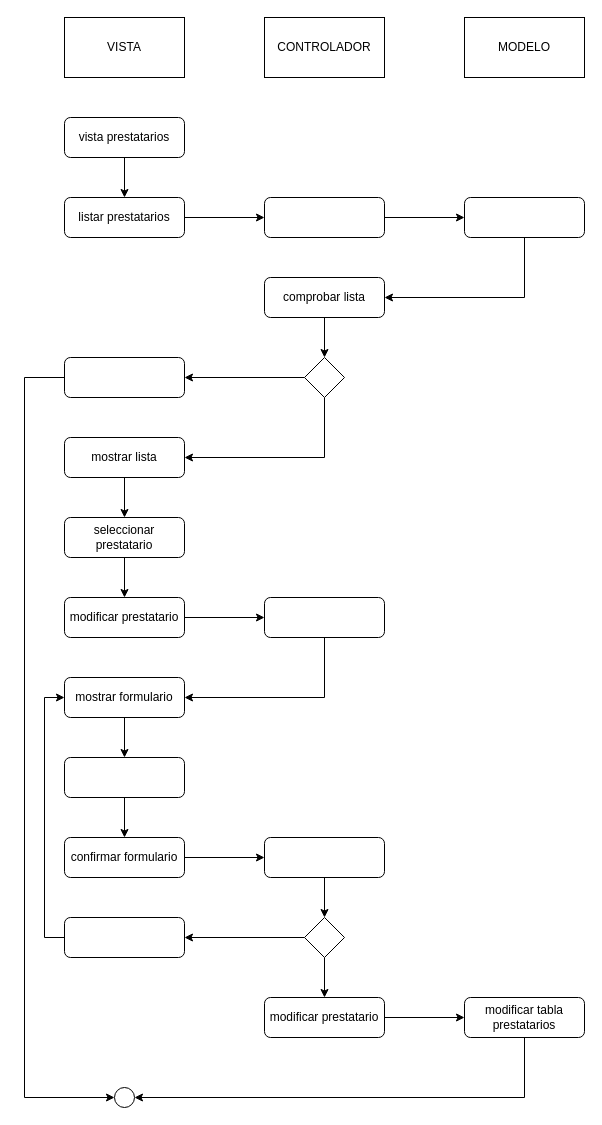
Image size: 602x1125. Some labels were removed from this diagram. Here are the shapes that lost their labels. From the top down, the box of each, then its label:
(264, 196, 384, 238): recuperar lista prestatarios
(464, 196, 584, 238): recuperar prestatarios
(64, 356, 184, 398): informar lista vacia
(264, 596, 384, 638): recuperar datos de prestatario
(64, 756, 184, 798): modificar formulario
(264, 836, 384, 878): validar datos
(64, 916, 184, 958): informar error
